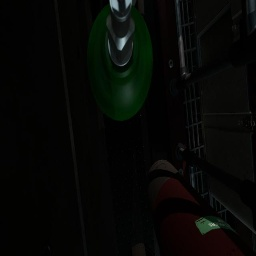0: (87, 0, 153, 121), (132, 0, 136, 6)
NitrogenTank ,: (145, 160, 256, 256), (127, 243, 154, 256)
